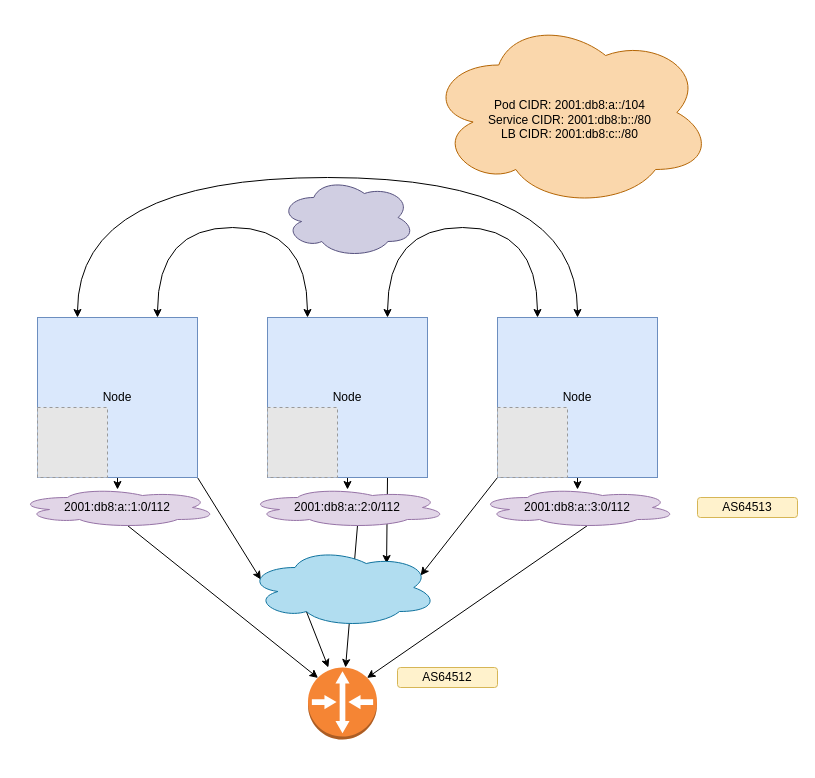
The diagram is 815 pixels wide and 778 high, and some of its shapes have lost their labels. Grey dashed boxes stand in for pictures. The box of each missing label's shape, as (x1, y1, x2, y2) in pixels:
2001:db8:b::/80 2001:db8:c::/80: (246, 546, 438, 628)
Node Mesh 2001:db8:a::/104: (279, 176, 415, 258)
Router: (307, 666, 377, 740)
